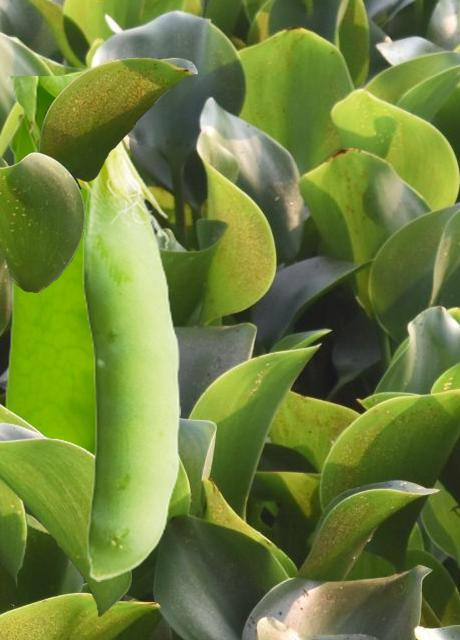pea: (78, 138, 179, 580), (4, 76, 93, 534)
